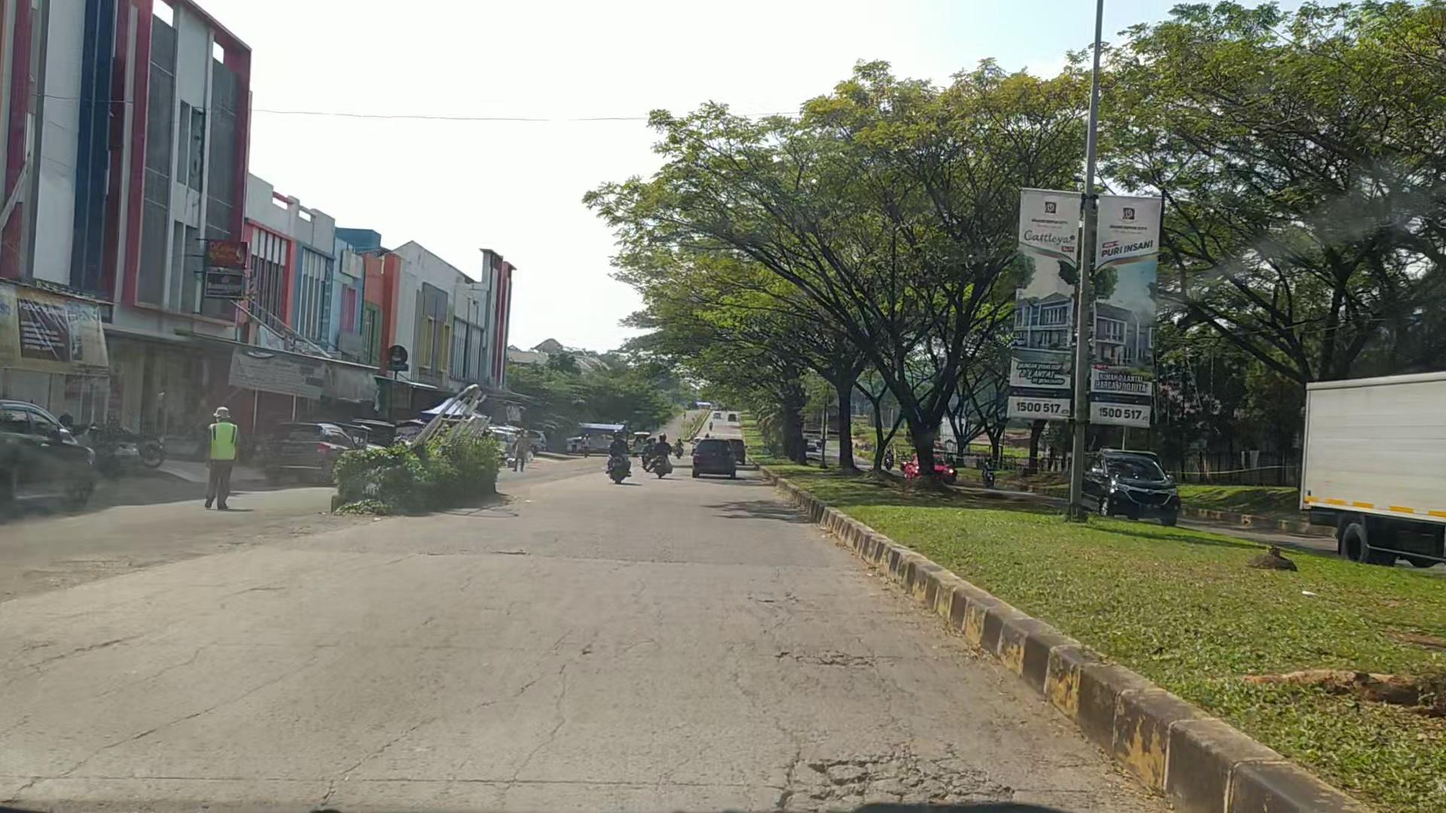pothole: (775, 751, 1015, 813)
